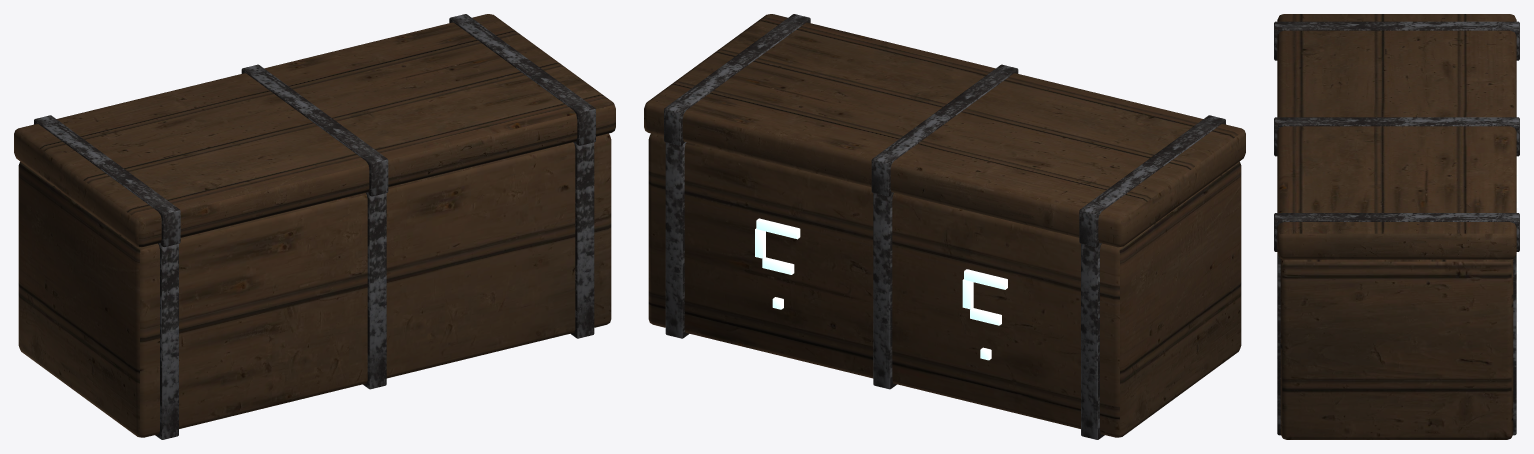
Rendered from prop_mystery_crate.glb.
3 renders of one model, left to right at view 1: azimuth 30°, elevation 25°; view 2: azimuth 150°, elevation 25°; view 3: azimuth 270°, elevation 25°, orthographic. The views are drawn at different scales.
Parts seen in each view (by area): view 1: Body, Lid, Band.002, Band.001, Band, LidBand.001, LidBand, LidBand.002; view 2: Body, Lid, Band.002, Band.001, Band, LidBand.001, LidBand, LidBand.002; view 3: Lid, Body, LidBand, LidBand.001, LidBand.002, Band.002.
Boxes of the visible parts, x1,y1,x2,y2 form: Body: (18, 133, 611, 437); Lid: (14, 14, 615, 247); Band.002: (570, 141, 594, 338); Band.001: (363, 192, 386, 389); Band: (155, 243, 178, 439); LidBand.001: (241, 64, 388, 196); LidBand: (34, 115, 180, 247); LidBand.002: (449, 14, 595, 145); Body: (648, 133, 1241, 437); Lid: (644, 14, 1245, 247); Band.002: (665, 142, 689, 338); Band.001: (873, 192, 896, 389); Band: (1081, 243, 1104, 439); LidBand.001: (871, 64, 1018, 196); LidBand: (1079, 115, 1225, 247); LidBand.002: (664, 14, 810, 145); Lid: (1277, 14, 1516, 259); Body: (1280, 259, 1513, 439); LidBand: (1274, 21, 1519, 60); LidBand.001: (1274, 117, 1519, 156); LidBand.002: (1274, 213, 1519, 251); Band.002: (1277, 254, 1516, 435).
Size of the model in its own units: 1.62 by 0.735 by 0.76.
Materials: 3 (2 with a texture image).
